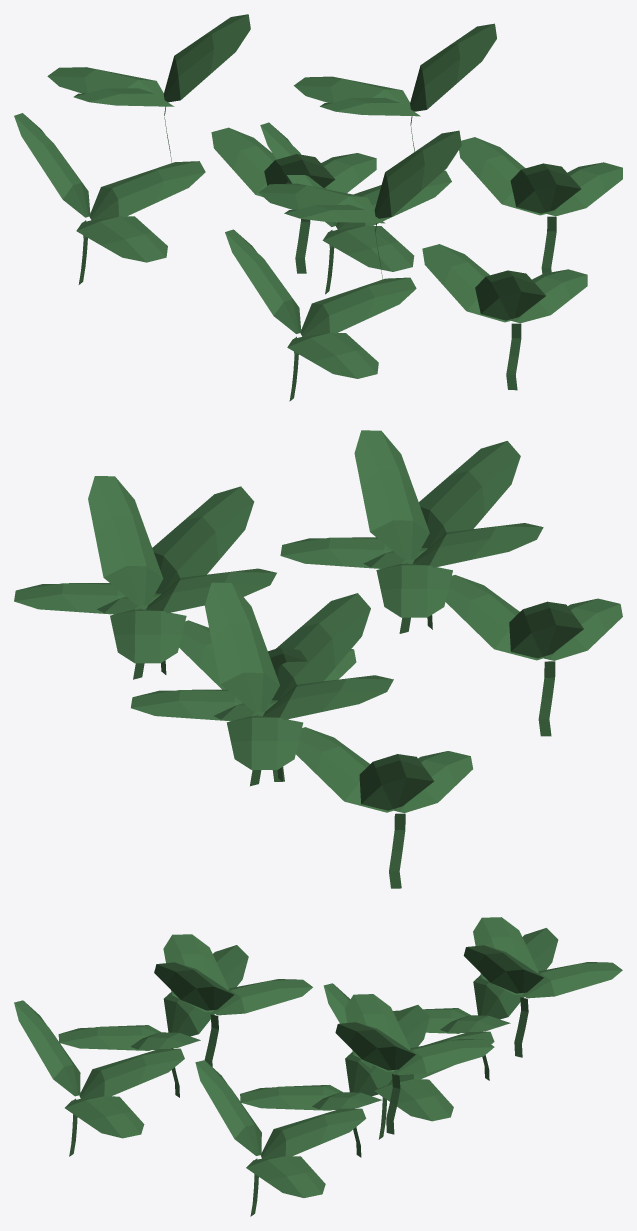
Rendered from Leaves_Mesh.fbx.
3 renders of one model, top to bottom at view 1: azimuth 30°, elevation 25°; view 2: azimuth 150°, elevation 25°; view 3: azimuth 270°, elevation 25°, orthographic. The views are drawn at different scales.
Parts seen in each view (by area): view 1: Leaves_Mesh; view 2: Leaves_Mesh; view 3: Leaves_Mesh.
Boxes of the visible parts, box(x1,y1,x2,y2) form: Leaves_Mesh: box(14, 14, 622, 401); Leaves_Mesh: box(14, 430, 622, 888); Leaves_Mesh: box(14, 917, 622, 1216).
Bounding box in the file's own units: 145 × 66.71 × 178.
